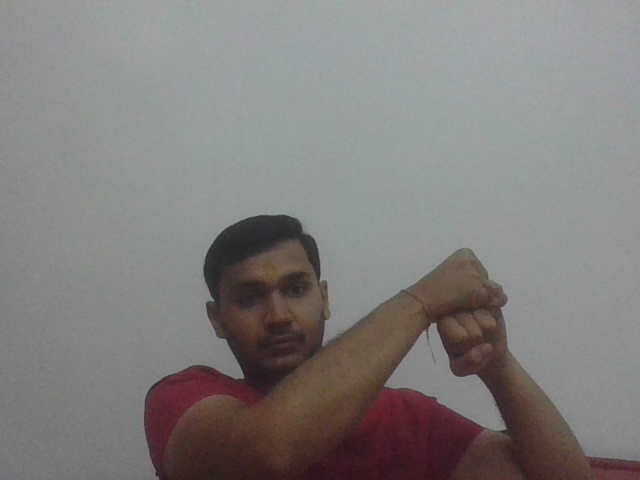S: (426, 241, 513, 385)
